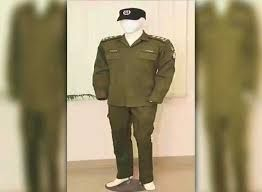uniform: (96, 31, 170, 177)
